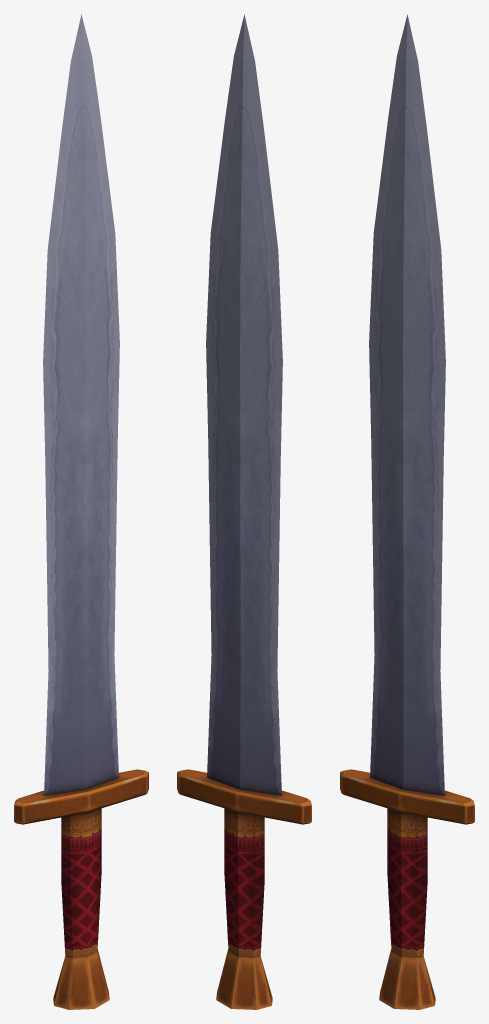
The model's file is sword.obj.
The picture shows the model from 3 angles, left to right: view 1: azimuth 30°, elevation 25°; view 2: azimuth 150°, elevation 25°; view 3: azimuth 330°, elevation 25°; orthographic projection.
Parts seen in each view (by area): view 1: Sword; view 2: Sword; view 3: Sword.
Boxes of the visible parts, x1=… form: Sword: x1=14, y1=14, x2=148, y2=1009; Sword: x1=177, y1=14, x2=311, y2=1009; Sword: x1=340, y1=14, x2=474, y2=1009.
Bounding box in the file's own units: 3.32 × 23.35 × 1.14.
